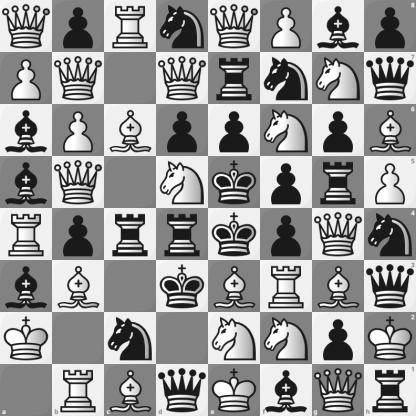B: (104, 364, 156, 416), (364, 104, 416, 156), (53, 261, 104, 312), (105, 105, 156, 156), (209, 261, 260, 312), (313, 261, 364, 312)
K: (364, 312, 416, 364), (209, 364, 260, 416), (1, 313, 52, 364)
N: (157, 157, 208, 208), (209, 313, 260, 364), (261, 105, 312, 156), (261, 313, 312, 364), (313, 53, 364, 104)
P: (364, 156, 416, 209), (1, 53, 52, 104), (53, 105, 104, 156), (261, 1, 312, 52)
Q: (312, 364, 364, 416), (1, 1, 52, 52), (53, 53, 104, 104), (53, 157, 104, 208), (157, 53, 208, 104), (209, 1, 260, 52), (313, 209, 364, 260)
R: (52, 364, 104, 416), (1, 209, 52, 260), (105, 1, 156, 52), (261, 261, 312, 312)
b: (260, 364, 312, 416), (1, 105, 52, 156), (1, 157, 52, 208), (1, 261, 52, 312), (313, 1, 364, 52)
board: (0, 0, 415, 415)
k: (157, 261, 208, 312), (209, 157, 260, 208), (209, 209, 260, 260)
n: (364, 209, 416, 260), (105, 313, 156, 364), (157, 1, 208, 52), (261, 53, 312, 104)
p: (364, 0, 416, 52), (53, 1, 104, 52), (53, 209, 104, 260), (157, 105, 208, 156), (209, 105, 260, 156), (261, 157, 312, 208), (261, 209, 312, 260), (313, 105, 364, 156), (313, 313, 364, 364)
q: (156, 364, 209, 416), (364, 52, 416, 104), (364, 260, 416, 312)
r: (364, 364, 416, 416), (105, 209, 156, 260), (157, 209, 208, 260), (209, 53, 260, 104), (313, 157, 364, 208)
